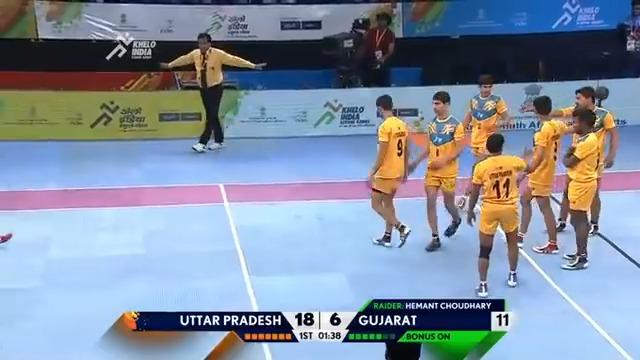Player: (158, 31, 267, 153), (547, 85, 618, 236), (465, 132, 529, 297), (405, 90, 466, 251), (515, 95, 577, 253), (558, 106, 602, 270), (366, 94, 412, 248), (460, 73, 512, 208)
referee: (320, 16, 370, 87), (355, 11, 396, 86)
